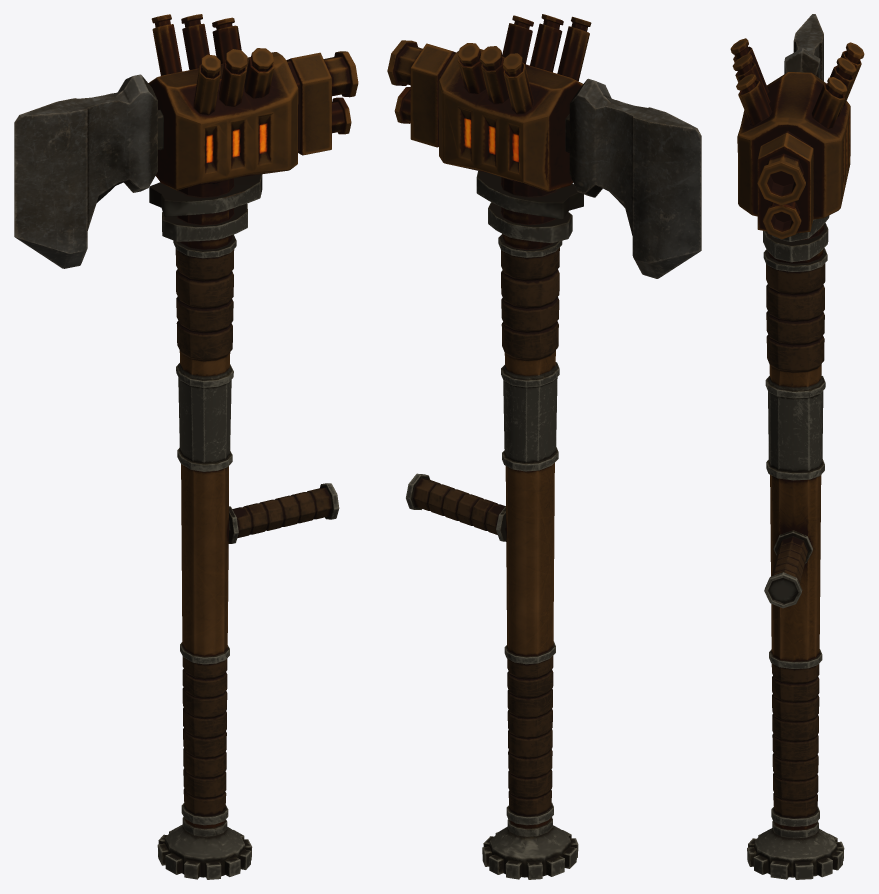
File: Rocket_Axe.fbx
The picture shows the model from 3 angles, left to right: view 1: azimuth 30°, elevation 25°; view 2: azimuth 150°, elevation 25°; view 3: azimuth 270°, elevation 25°; orthographic projection. The views are drawn at different scales.
Visible parts, largest first — view 1: Axe; view 2: Axe; view 3: Axe.
Part boxes in pixels (x1=…): Axe: x1=14, y1=14, x2=358, y2=879; Axe: x1=387, y1=14, x2=701, y2=879; Axe: x1=730, y1=14, x2=864, y2=879.
Size of the model in its own units: 1323 by 3289 by 492.
Materials: 1 (1 with a texture image).
